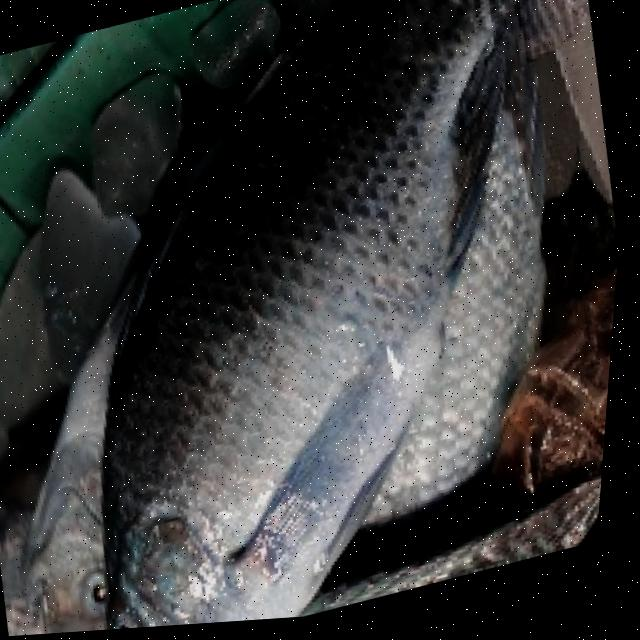Fresh: (2, 36, 625, 638)
